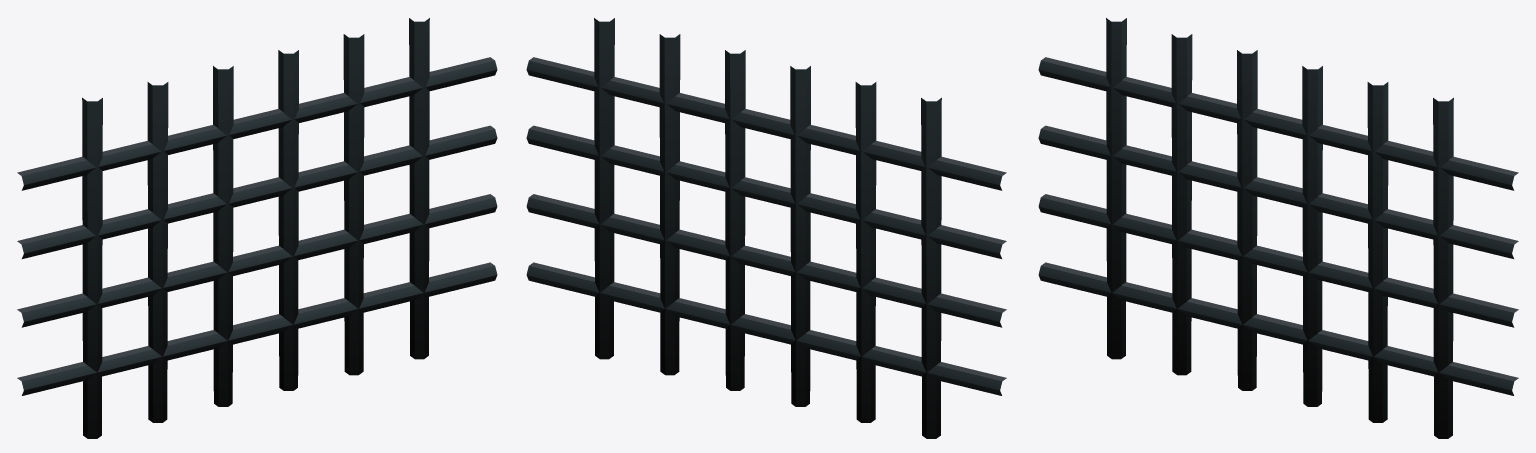
Rendered from wall_gated_bars.gltf.glb.
3 views of the same model, side by side, from view 1: azimuth 30°, elevation 25°; view 2: azimuth 150°, elevation 25°; view 3: azimuth 330°, elevation 25° (orthographic).
Visible parts, largest first — view 1: wall_gated; view 2: wall_gated; view 3: wall_gated.
Boxes of the visible parts, <box> form: wall_gated: <box>17,18,497,438</box>; wall_gated: <box>526,18,1006,438</box>; wall_gated: <box>1038,18,1518,438</box>.
Bounding box in the file's own units: 3.62 × 2.47 × 0.1374.
Materials: 1 (1 with a texture image).
